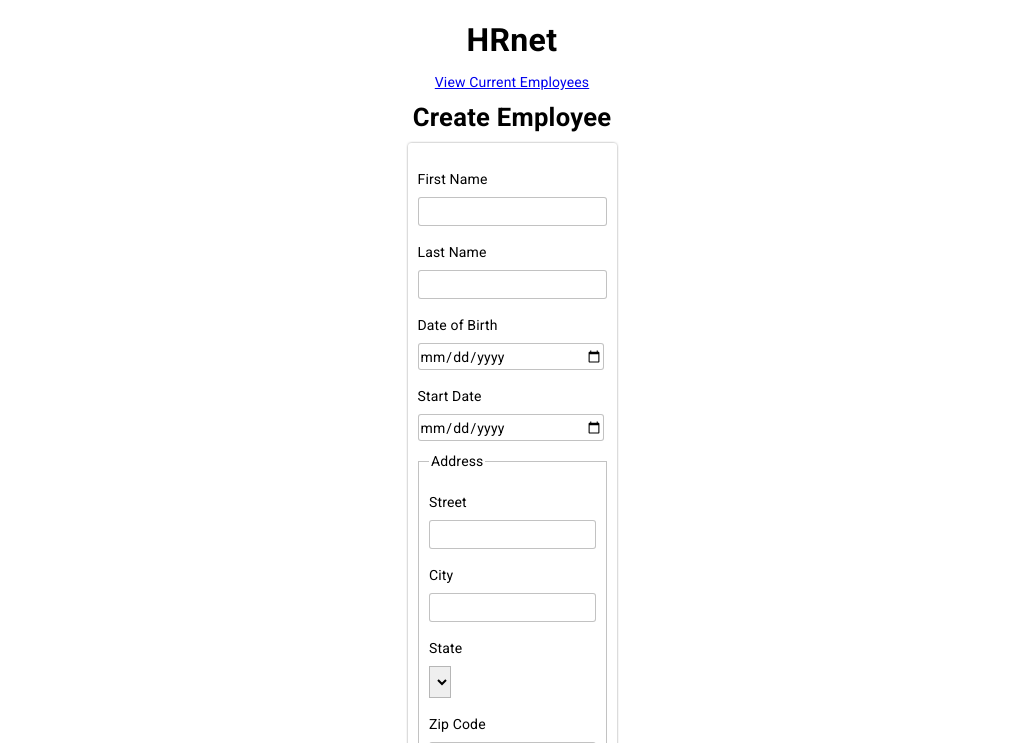
Test: Clicking on the link to the Employee List page
This screenshot has width=1024, height=743.
Click the link with test id "list-link" at (512, 82), box [435,72,589,92]
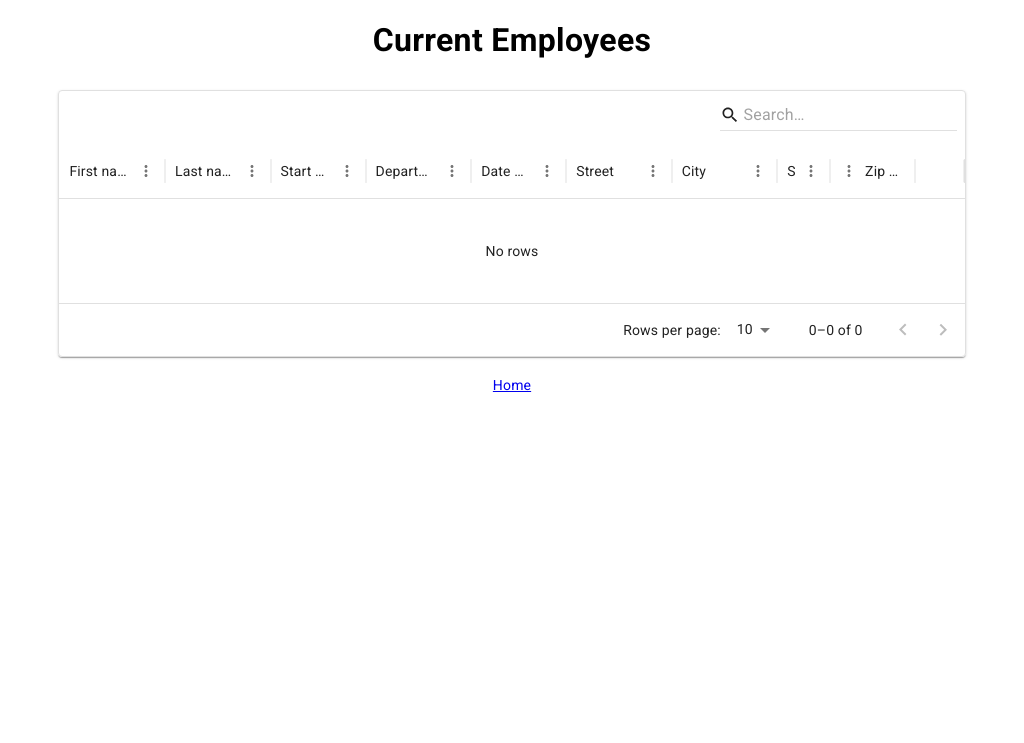
Expected: the heading "Current Employees" is shown, [373,21,651,59]
